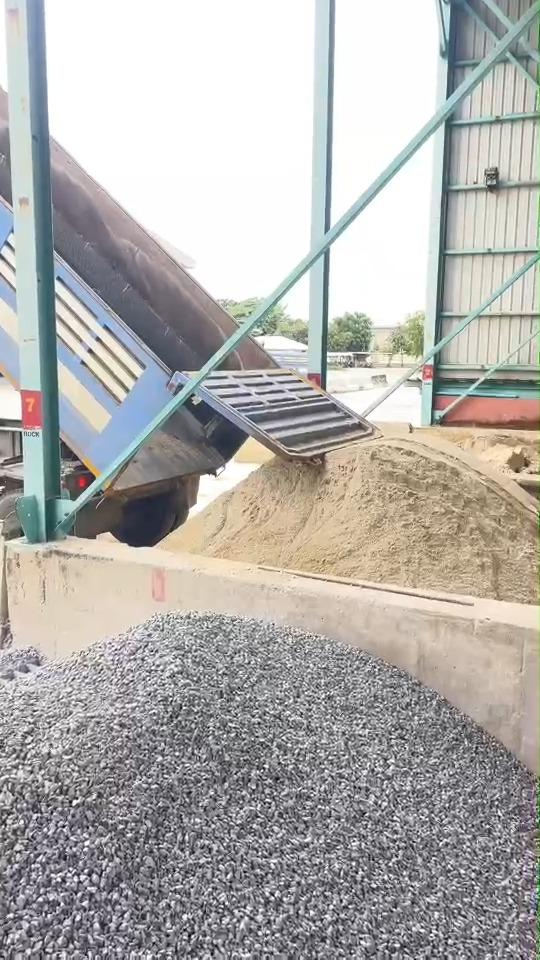gravel: (0, 614, 535, 959), (0, 647, 42, 680)
sand: (163, 433, 539, 602), (457, 434, 537, 475)
